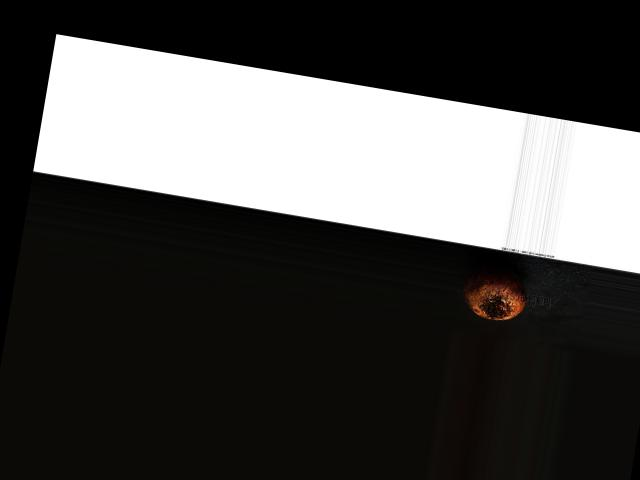beet: (456, 258, 530, 323)
